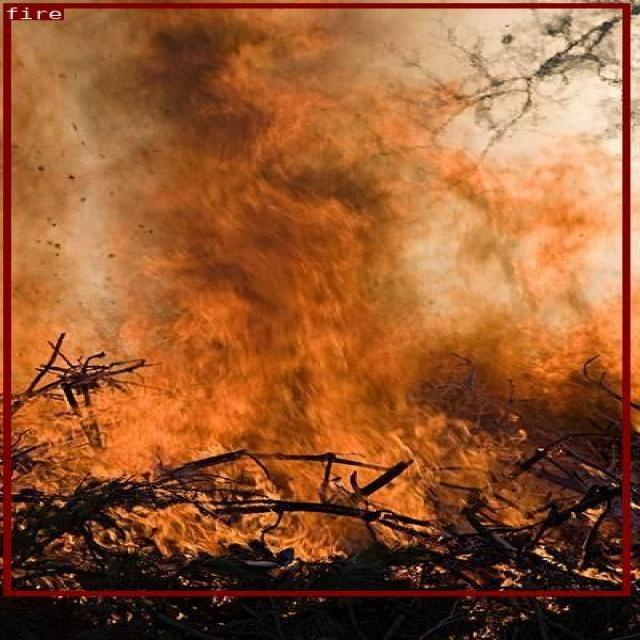fire: (3, 3, 629, 595)
